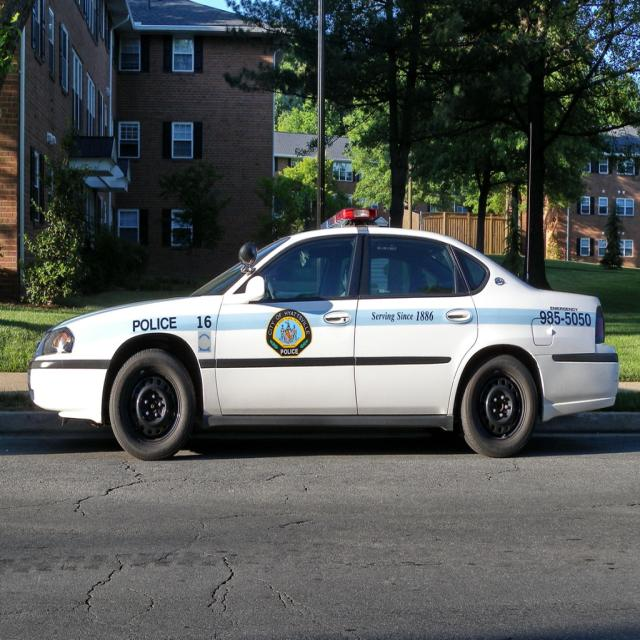car: (13, 211, 627, 468)
